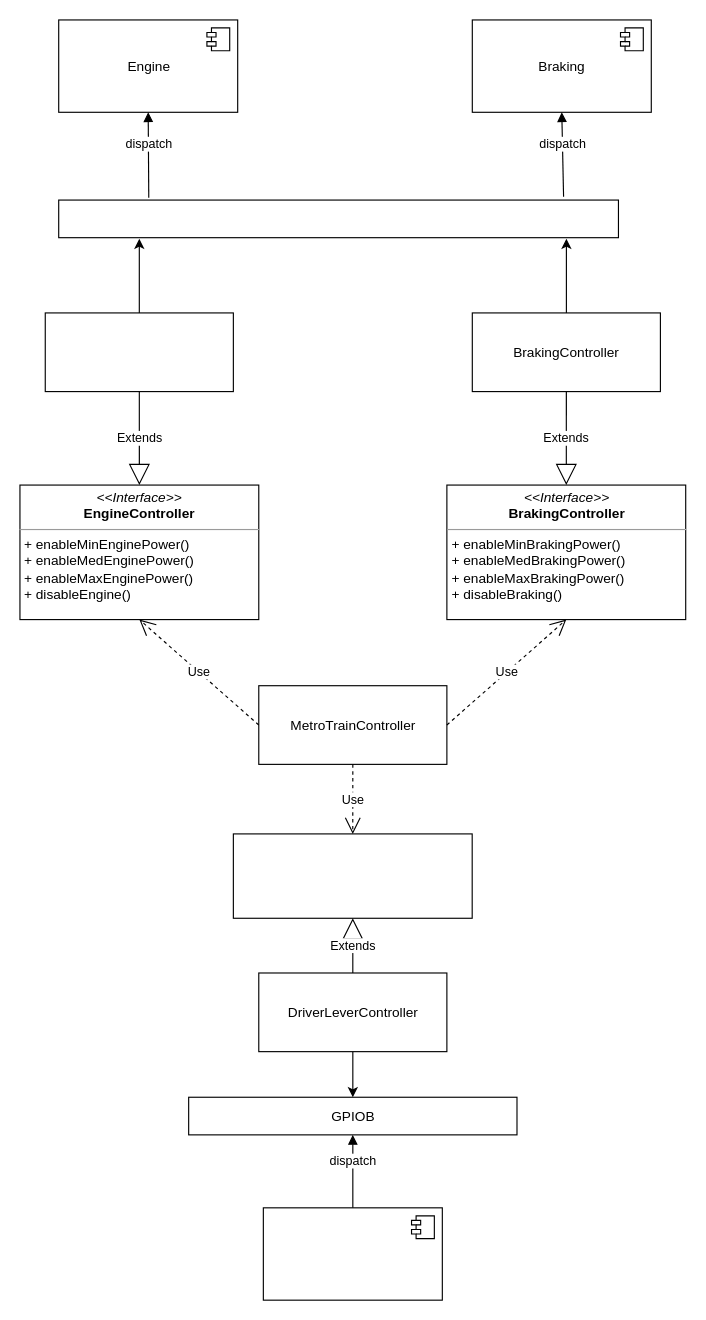
Image size: 706x1320. Some labels were removed from this diagram. The shapes that lost their labels are listed below. From the top down, each one's centre as x and y in pixels, then its label:
the point at 338,218: GPIOC
the point at 138,352: EngineController
the point at 352,875: <<Interface>> DriverLeverController + getLeverPosition() : int
the point at 352,1253: DriverLever
